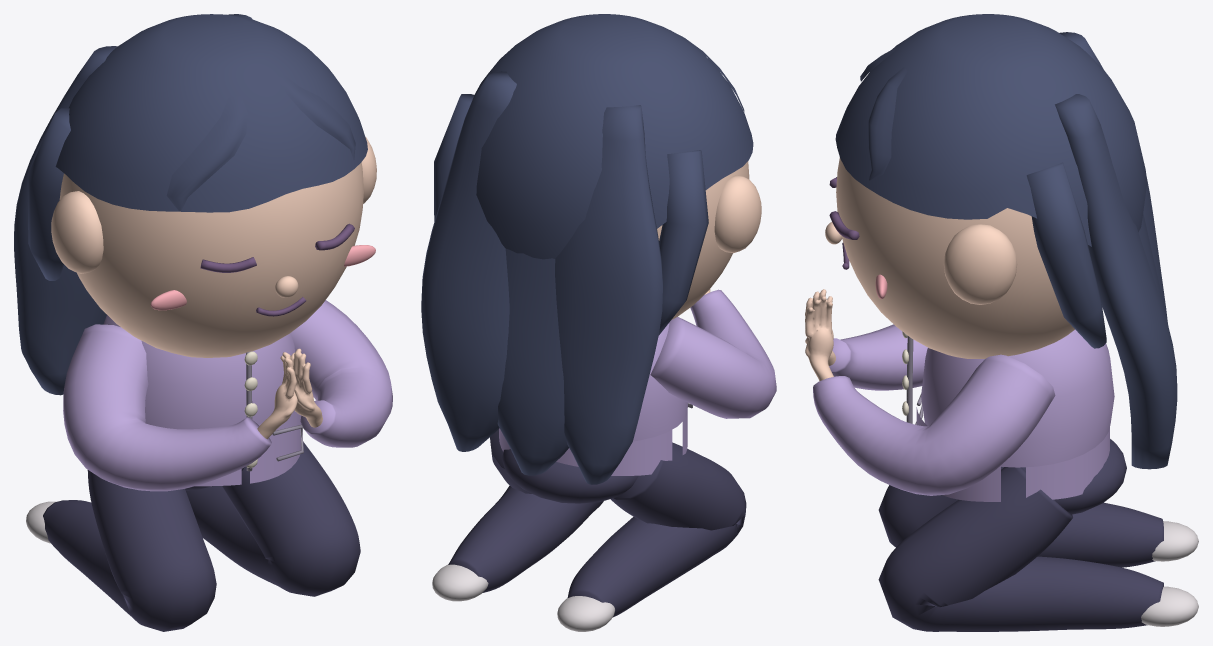
File: meditator_female_kneel_prayer_p05c.glb
The picture shows the model from 3 angles, left to right: view 1: azimuth 30°, elevation 25°; view 2: azimuth 150°, elevation 25°; view 3: azimuth 270°, elevation 25°; orthographic projection. The views are drawn at different scales.
Parts seen in each view (by area): view 1: hair_blue_black_UpperBodyBreath_object, skin_rose_cream_UpperBodyBreath_object, ao_ba_ba_top_UpperBodyBreath_object, ao_ba_ba_pants_SeatRoot_object, eyes_mauve_UpperBodyBreath_object, skin_blush_UpperBodyBreath_object, sandal_trim_SeatRoot_object, ao_ba_ba_placket_UpperBodyBreath_object; view 2: hair_blue_black_UpperBodyBreath_object, ao_ba_ba_pants_SeatRoot_object, ao_ba_ba_top_UpperBodyBreath_object, skin_rose_cream_UpperBodyBreath_object, sandal_trim_SeatRoot_object; view 3: hair_blue_black_UpperBodyBreath_object, ao_ba_ba_top_UpperBodyBreath_object, ao_ba_ba_pants_SeatRoot_object, skin_rose_cream_UpperBodyBreath_object, sandal_trim_SeatRoot_object, ao_ba_ba_placket_UpperBodyBreath_object, eyes_mauve_UpperBodyBreath_object.
Boxes of the visible parts, left/top/right/bottom form: hair_blue_black_UpperBodyBreath_object: left=14, top=14, right=367, bottom=395; skin_rose_cream_UpperBodyBreath_object: left=51, top=137, right=376, bottom=439; ao_ba_ba_top_UpperBodyBreath_object: left=63, top=300, right=392, bottom=491; ao_ba_ba_pants_SeatRoot_object: left=43, top=442, right=360, bottom=631; eyes_mauve_UpperBodyBreath_object: left=200, top=223, right=354, bottom=316; skin_blush_UpperBodyBreath_object: left=150, top=245, right=375, bottom=310; sandal_trim_SeatRoot_object: left=26, top=501, right=56, bottom=543; ao_ba_ba_placket_UpperBodyBreath_object: left=246, top=351, right=303, bottom=471; hair_blue_black_UpperBodyBreath_object: left=421, top=14, right=753, bottom=484; ao_ba_ba_pants_SeatRoot_object: left=448, top=429, right=746, bottom=617; ao_ba_ba_top_UpperBodyBreath_object: left=499, top=289, right=776, bottom=475; skin_rose_cream_UpperBodyBreath_object: left=657, top=161, right=761, bottom=319; sandal_trim_SeatRoot_object: left=432, top=564, right=614, bottom=631; hair_blue_black_UpperBodyBreath_object: left=835, top=14, right=1177, bottom=469; ao_ba_ba_top_UpperBodyBreath_object: left=813, top=324, right=1114, bottom=501; ao_ba_ba_pants_SeatRoot_object: left=878, top=439, right=1163, bottom=631; skin_rose_cream_UpperBodyBreath_object: left=805, top=157, right=1074, bottom=381; sandal_trim_SeatRoot_object: left=1141, top=521, right=1198, bottom=626; ao_ba_ba_placket_UpperBodyBreath_object: left=906, top=336, right=922, bottom=424; eyes_mauve_UpperBodyBreath_object: left=829, top=177, right=859, bottom=269.
Size of the model in its own units: 0.672 by 1.15 by 0.7285.
